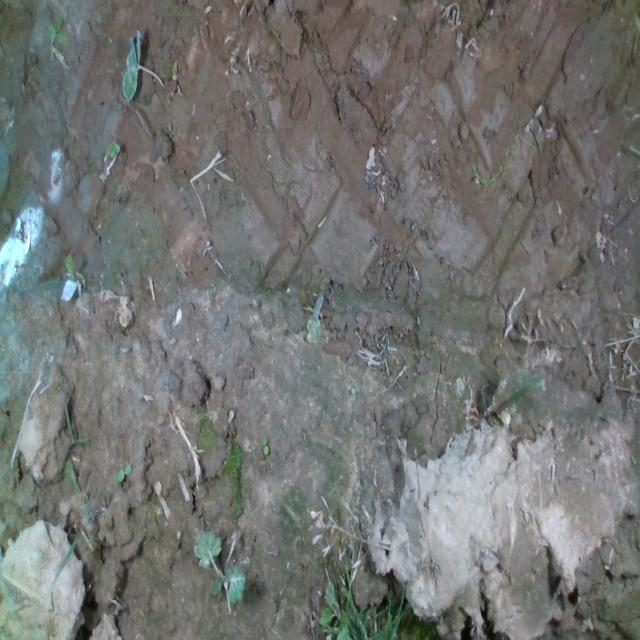weed: (116, 461, 131, 482), (260, 432, 269, 456)
